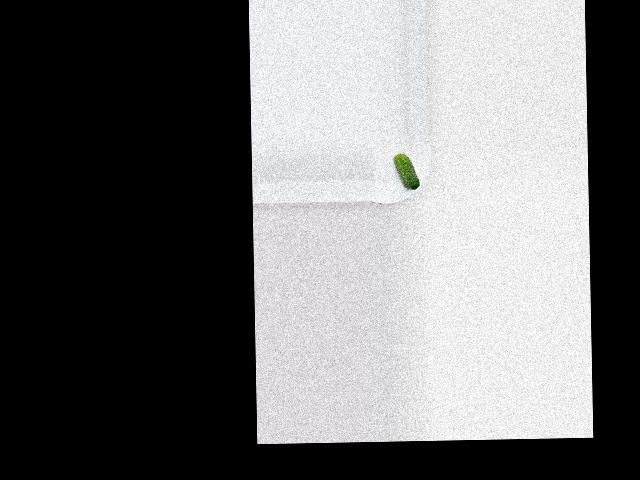cucumber: (393, 153, 419, 189)
